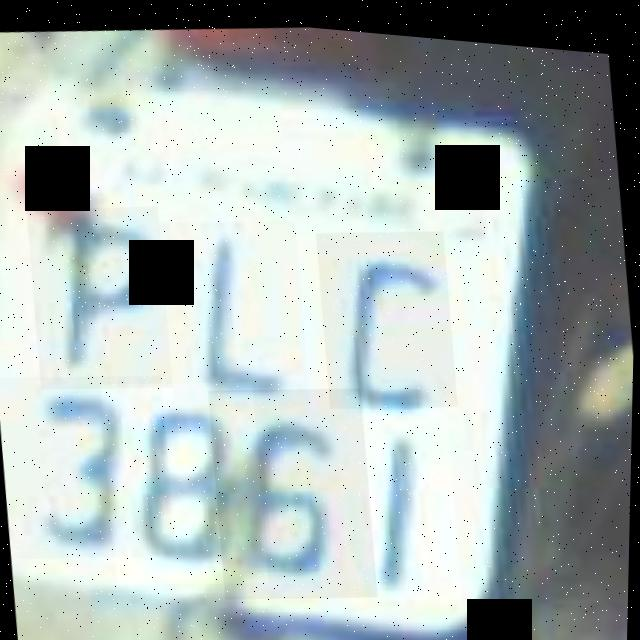1: (332, 386, 468, 602)
3: (0, 360, 181, 569)
6: (205, 370, 383, 605)
8: (98, 367, 274, 594)
C: (313, 213, 462, 411)
J: (157, 205, 314, 413)
P: (24, 194, 177, 397)
